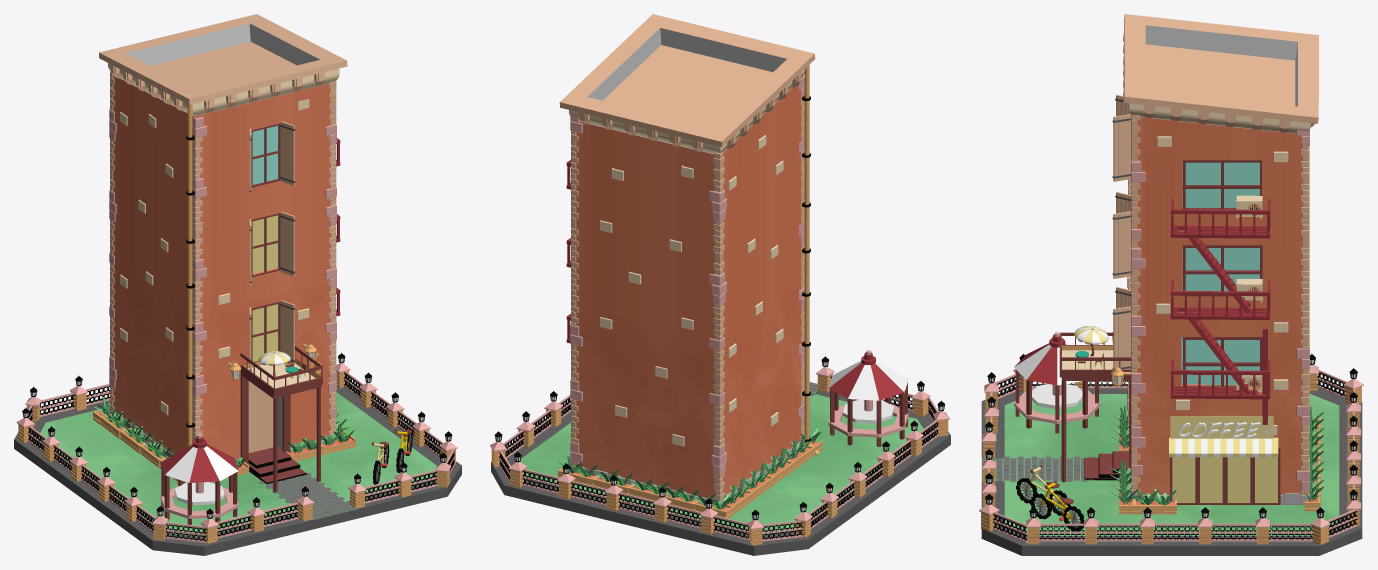
The model's file is house_lv4_2.fbx.
The picture shows the model from 3 angles, left to right: view 1: azimuth 30°, elevation 25°; view 2: azimuth 150°, elevation 25°; view 3: azimuth 270°, elevation 25°; orthographic projection. The views are drawn at different scales.
Visible parts, largest first — view 1: house_lv4_2, housebase_lv4_2, housepergola_lv4_2; view 2: house_lv4_2, housebase_lv4_2, housepergola_lv4_2; view 3: house_lv4_2, housebase_lv4_2, housepergola_lv4_2, housebicycle_lv4_yellow_2, housebicycle_lv4_red_2, houseumbrella_lv4_2.
Boxes of the visible parts, x1,y1,x2,y2 form: house_lv4_2: [93, 14, 355, 492]; housebase_lv4_2: [14, 352, 461, 555]; housepergola_lv4_2: [160, 434, 238, 528]; house_lv4_2: [557, 14, 822, 518]; housebase_lv4_2: [490, 356, 950, 555]; housepergola_lv4_2: [828, 350, 908, 446]; house_lv4_2: [1059, 14, 1324, 514]; housebase_lv4_2: [979, 353, 1363, 555]; housepergola_lv4_2: [1014, 332, 1100, 433]; housebicycle_lv4_yellow_2: [1030, 480, 1083, 531]; housebicycle_lv4_red_2: [1016, 465, 1070, 515]; houseumbrella_lv4_2: [1074, 326, 1108, 356].
Size of the model in its own units: 3484 by 4254 by 3497.
